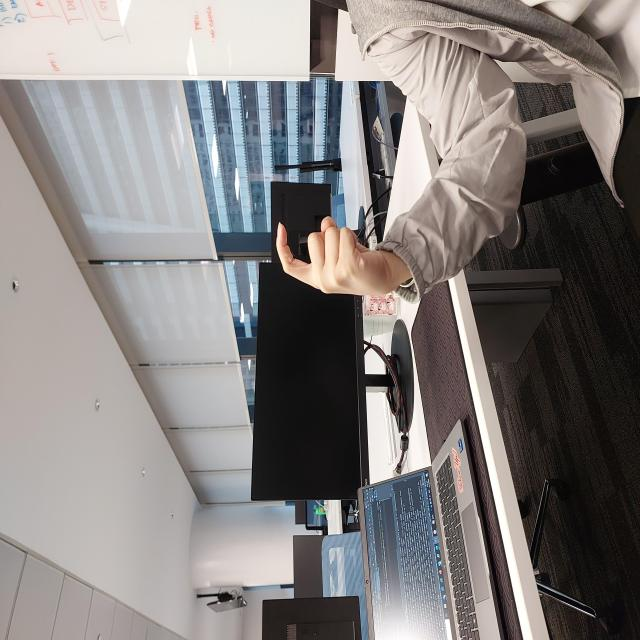X: (344, 275, 426, 391)
